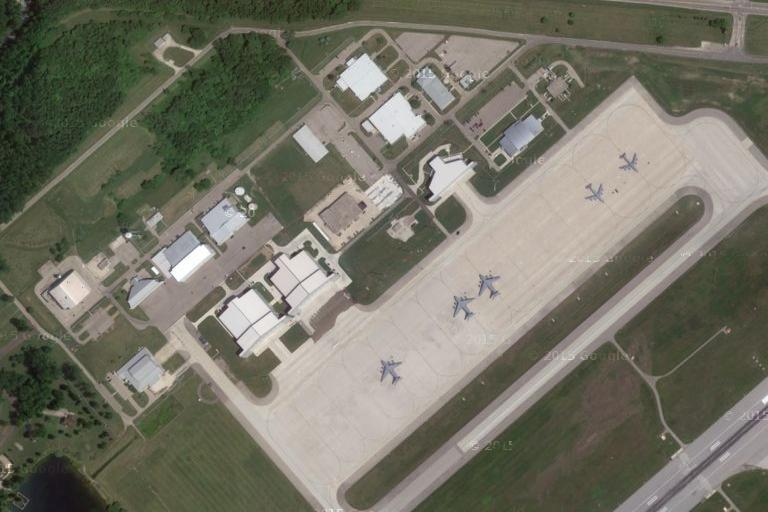C-17: (474, 269, 506, 301), (377, 356, 405, 386), (451, 293, 478, 323)
KC-135: (616, 151, 644, 175), (582, 179, 607, 205)
